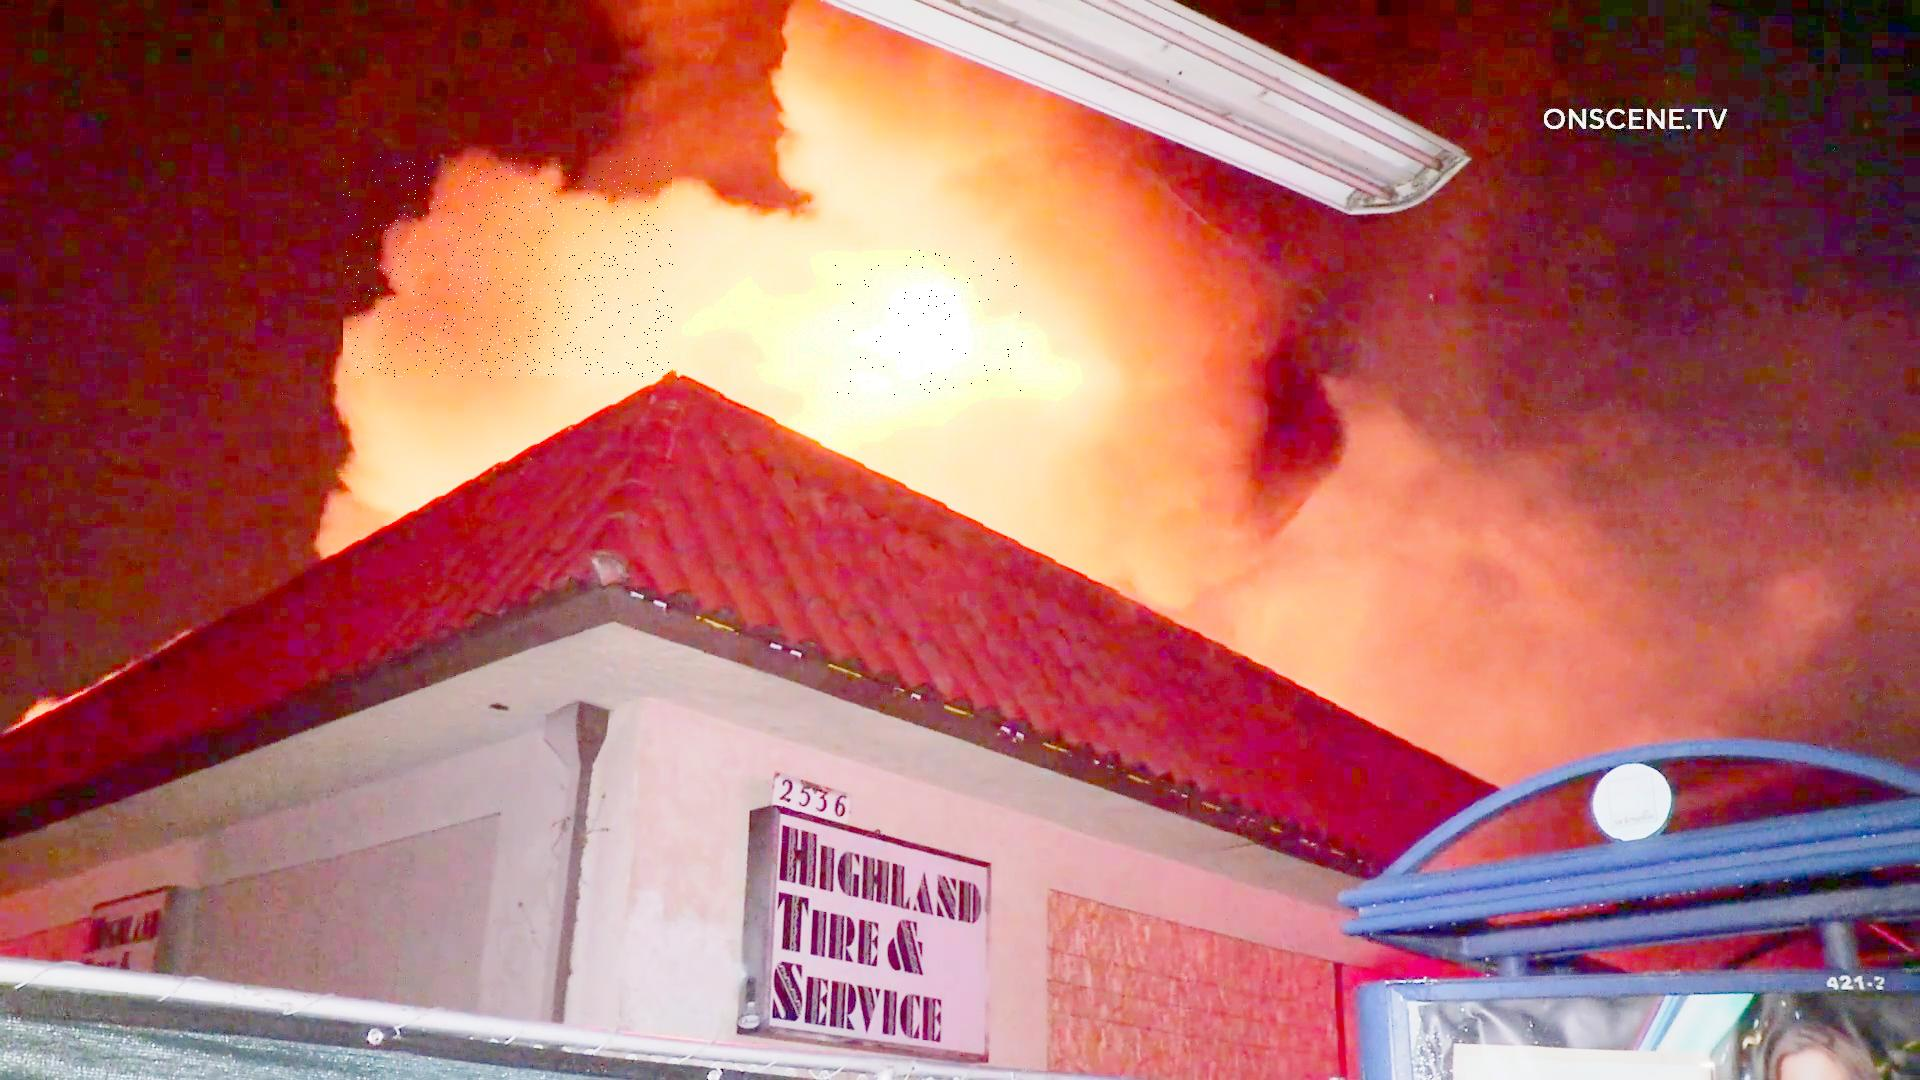fire: (835, 251, 1026, 397)
smoke: (343, 158, 673, 378)
